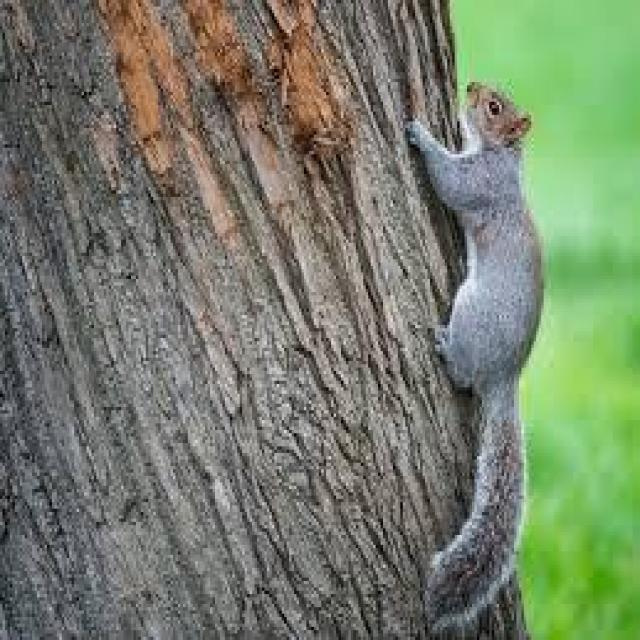license-plate: (404, 74, 554, 640)
